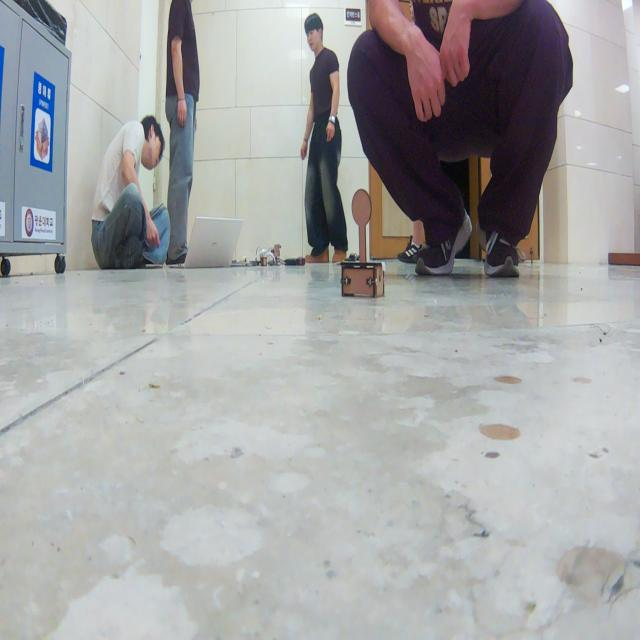target: (341, 186, 385, 300)
